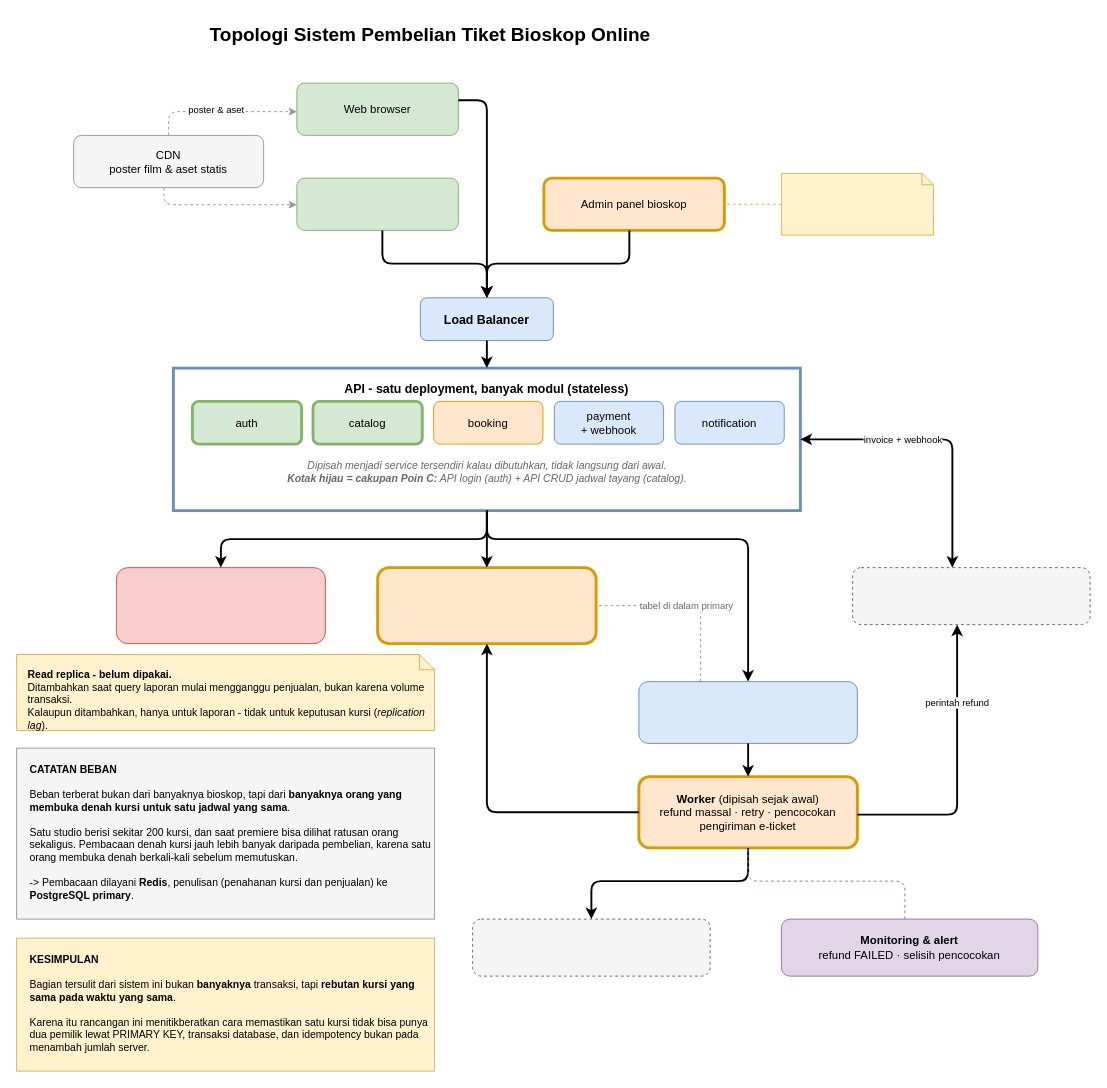
The diagram is 1107 pixels wide and 1088 high, and some of its shapes have lost their labels. The shapes that lost their labels are listed below. From the top down, each one's centre as x and y in pixels, then its label:
At point 377,203: "Mobile app (iOS / Android)".
At point 856,203: "Antarmuka petugas bioskop. API-nya ada di modul auth + catalog (kotak hijau).".
At point 220,605: "Redis cache denah kursi percepatan pembacaan, tidak memutuskan kepemilikan".
At point 486,605: "PostgreSQL PRIMARY otoritas kebenaran semua tulisan kursi & uang".
At point 971,596: "Payment Gateway (eksternal) Midtrans / Xendit".
At point 747,712: "Job queue tabel jobs di Postgres, FOR UPDATE SKIP LOCKED".
At point 591,947: "Notification provider (eksternal) email / WhatsApp / push".
